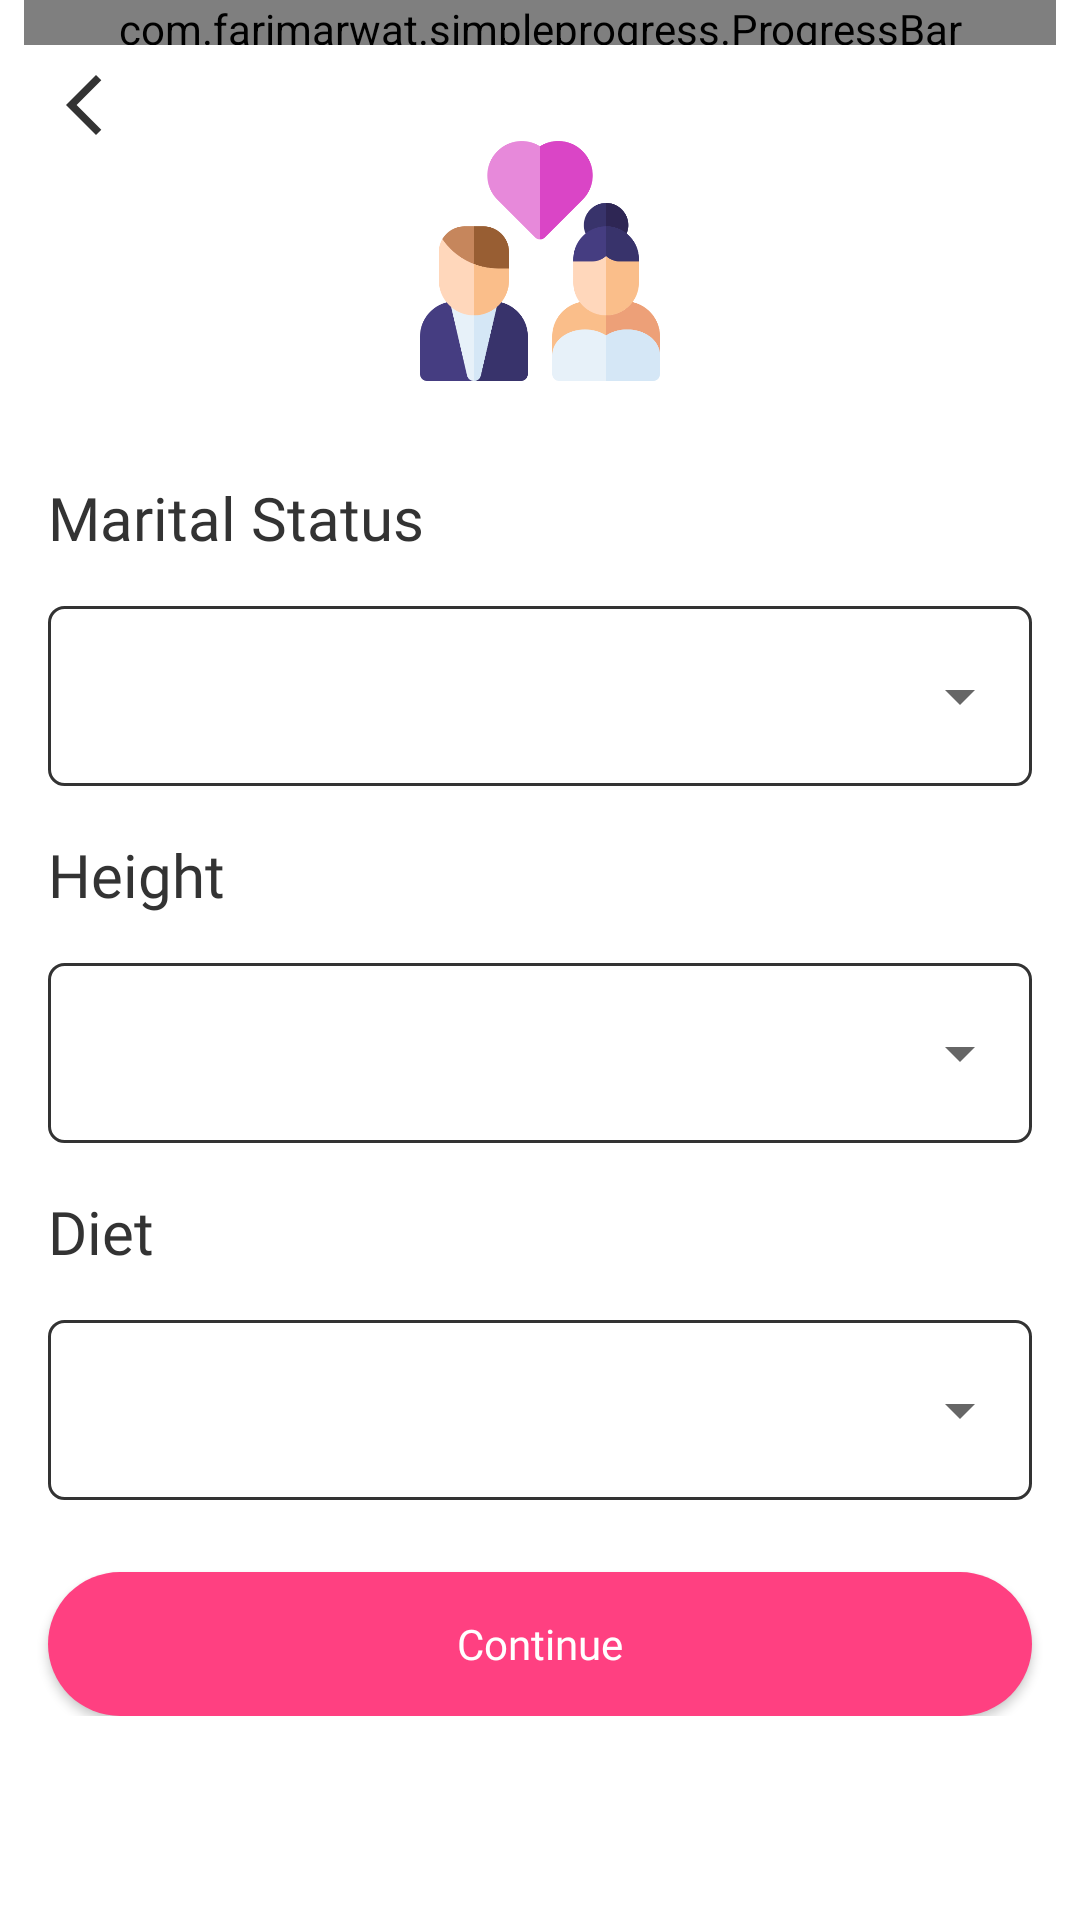

Screen size 1080w x 1920h. Icon name, then its box in pixels as (x1, y1, x2, y2):
arrow back: (66, 75, 101, 135)
martial statis: (420, 141, 660, 381)
